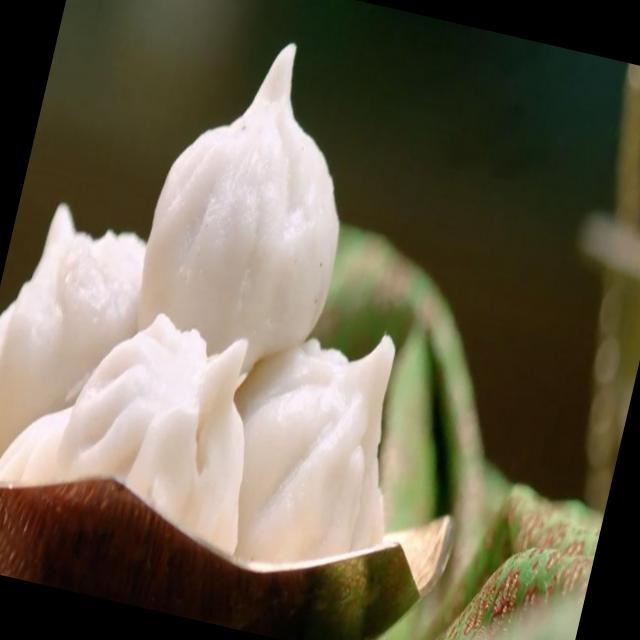modak: (107, 12, 384, 367), (0, 269, 276, 583), (208, 298, 437, 601), (0, 182, 154, 493)
